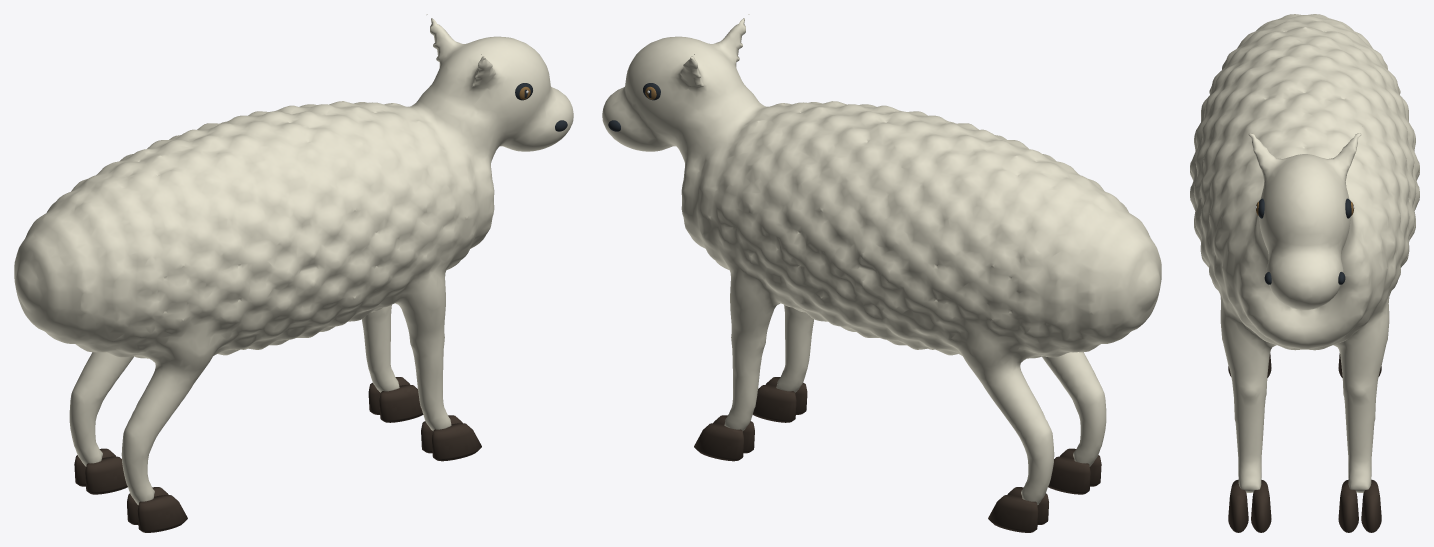
Rendered from wool-sheep.glb.
3 renders of one model, left to right at view 1: azimuth 30°, elevation 25°; view 2: azimuth 150°, elevation 25°; view 3: azimuth 270°, elevation 25°, orthographic. The views are drawn at different scales.
Parts seen in each view (by area): view 1: Continuous anatomical skin, Cloven tapered hoof.002, Cloven tapered hoof, Cloven tapered hoof.004, Cloven tapered hoof.006; view 2: Continuous anatomical skin, Cloven tapered hoof.007, Cloven tapered hoof.005, Cloven tapered hoof.001, Cloven tapered hoof.003; view 3: Continuous anatomical skin, Cloven tapered hoof, Cloven tapered hoof.005, Cloven tapered hoof.001, Cloven tapered hoof.004.
Part boxes in pixels (x1=…): Continuous anatomical skin: x1=14, y1=14, x2=573, y2=504; Cloven tapered hoof.002: x1=137, y1=495, x2=187, y2=532; Cloven tapered hoof: x1=431, y1=423, x2=481, y2=461; Cloven tapered hoof.004: x1=379, y1=384, x2=423, y2=422; Cloven tapered hoof.006: x1=85, y1=456, x2=127, y2=494; Continuous anatomical skin: x1=602, y1=14, x2=1161, y2=504; Cloven tapered hoof.007: x1=988, y1=495, x2=1038, y2=532; Cloven tapered hoof.005: x1=694, y1=423, x2=744, y2=461; Cloven tapered hoof.001: x1=752, y1=384, x2=796, y2=422; Cloven tapered hoof.003: x1=1048, y1=456, x2=1090, y2=494; Continuous anatomical skin: x1=1190, y1=14, x2=1419, y2=492; Cloven tapered hoof: x1=1228, y1=479, x2=1248, y2=532; Cloven tapered hoof.005: x1=1361, y1=479, x2=1381, y2=532; Cloven tapered hoof.001: x1=1251, y1=479, x2=1271, y2=532; Cloven tapered hoof.004: x1=1338, y1=479, x2=1358, y2=532.
Size of the model in its own units: 1.26 by 0.86 by 0.4354.
5 materials, 5 textured.
